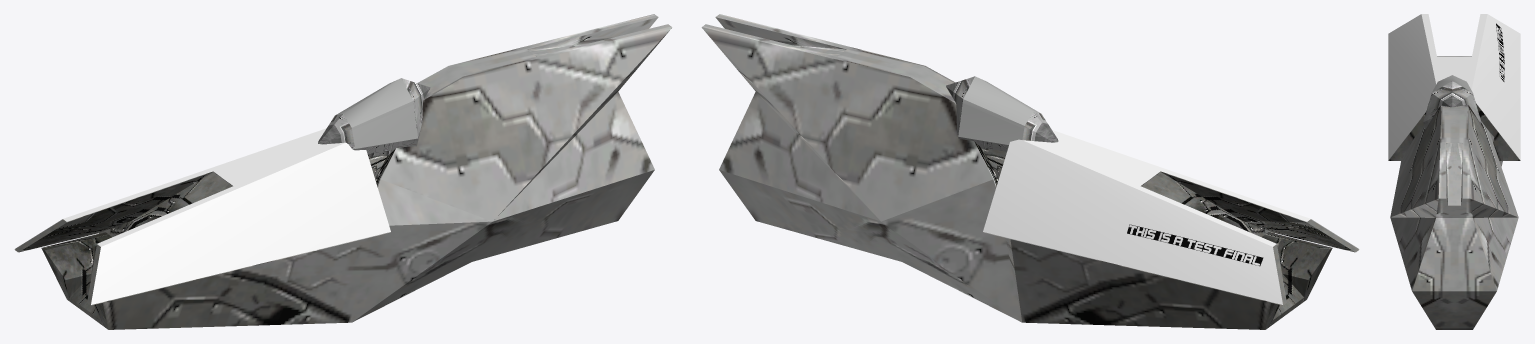
File: sph23.obj
The picture shows the model from 3 angles, left to right: view 1: azimuth 30°, elevation 25°; view 2: azimuth 150°, elevation 25°; view 3: azimuth 270°, elevation 25°; orthographic projection. The views are drawn at different scales.
Parts seen in each view (by area): view 1: SPH230, DECAL030.004, COCKPIT0.001; view 2: SPH230, DECAL030.004, COCKPIT0.001, NAMEDECAL0.004; view 3: SPH230, DECAL030.004, COCKPIT0.001, NAMEDECAL0.004.
Part boxes in pixels (x1,y1,x2,y2): SPH230: (15,14,672,329); DECAL030.004: (15,128,390,304); COCKPIT0.001: (318,78,430,156); SPH230: (701,14,1358,329); DECAL030.004: (983,130,1358,304); COCKPIT0.001: (946,76,1058,151); NAMEDECAL0.004: (1127,224,1263,266); SPH230: (1388,56,1520,329); DECAL030.004: (1388,14,1520,159); COCKPIT0.001: (1423,75,1481,129); NAMEDECAL0.004: (1496,23,1504,81).
Size of the model in its own units: 55.8 by 19.04 by 12.09.
Materials: 4 (4 with a texture image).
